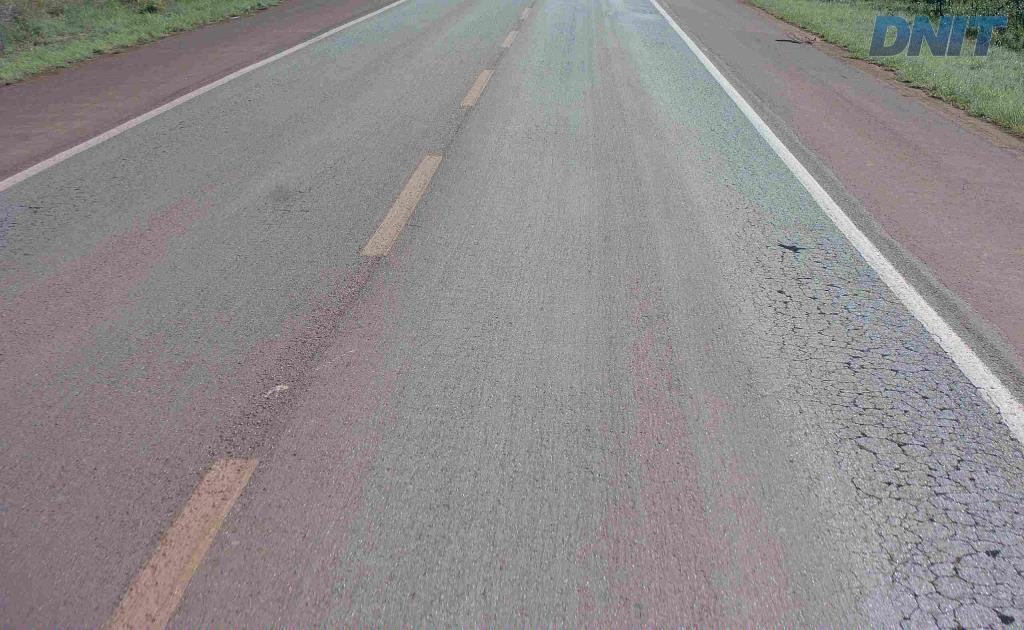crack: (933, 374, 1023, 489), (904, 524, 1013, 602), (843, 410, 964, 473), (954, 499, 1023, 537), (877, 377, 933, 421)
